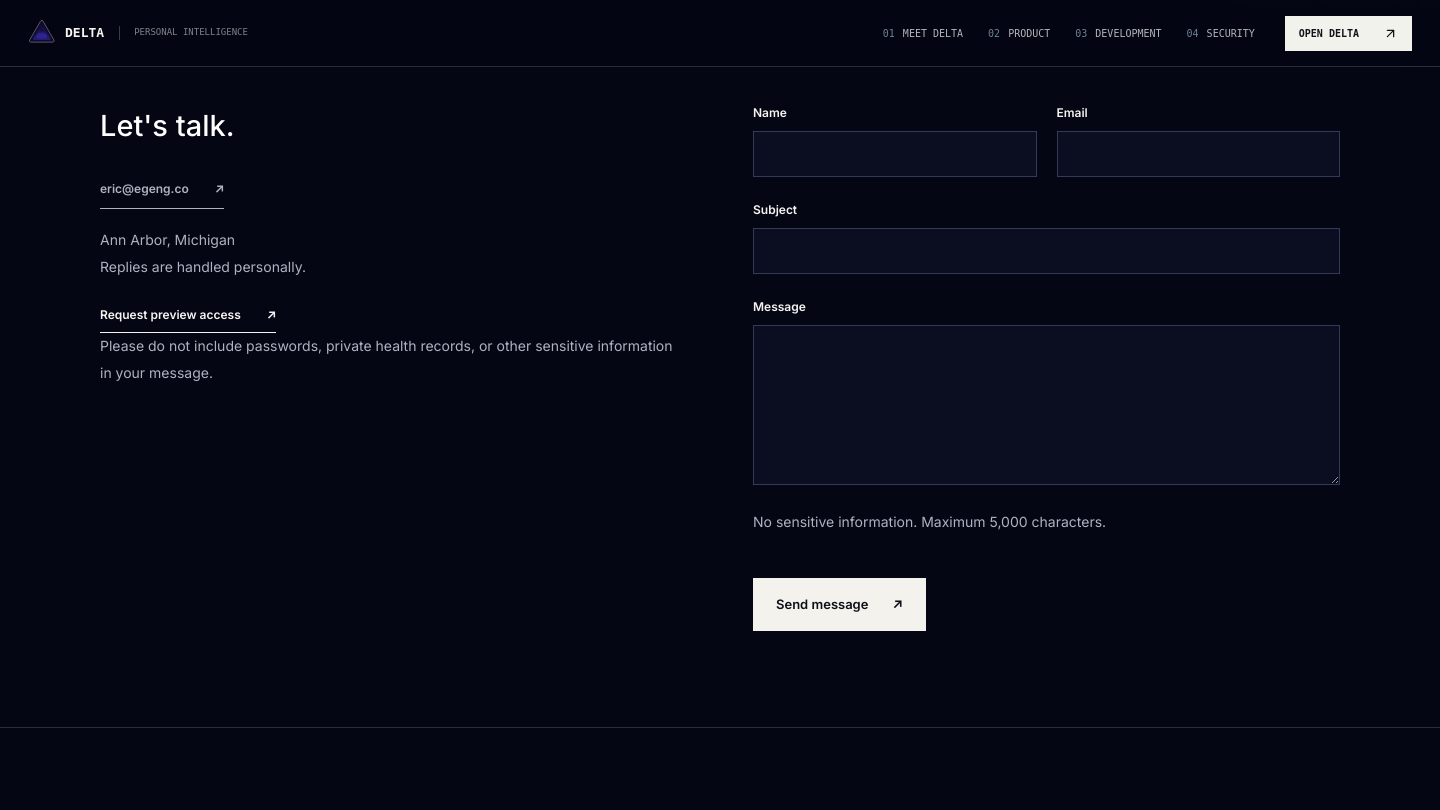
Test: also prevents simultaneous contact submissions
(page scrolled)
Type "A synthetic test message." into the text box labelled "Message" at (1046, 405), box [753, 325, 1340, 485]
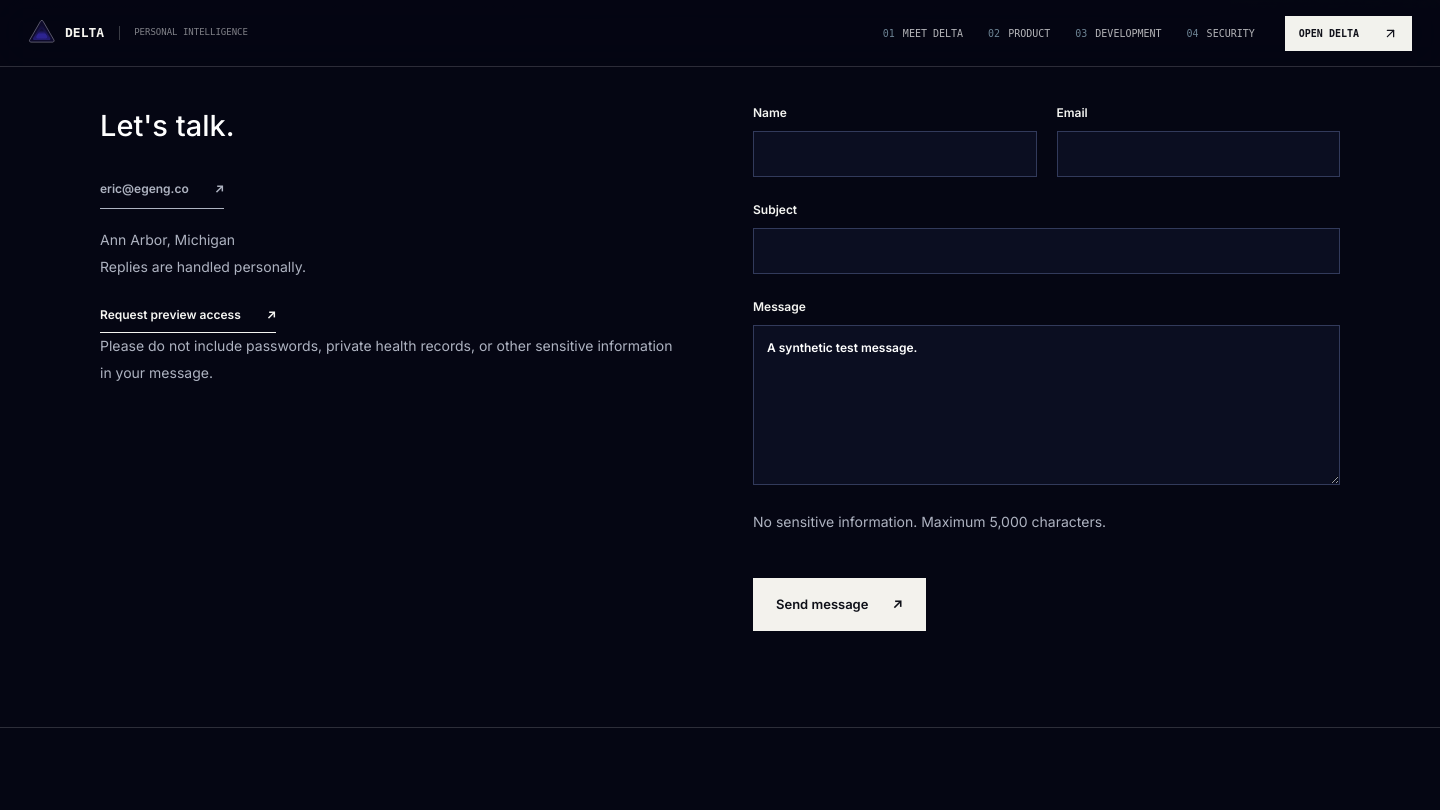
Submit the form, box [753, 104, 1340, 631]
Submit the form, box [753, 104, 1340, 631]
(page scrolled)
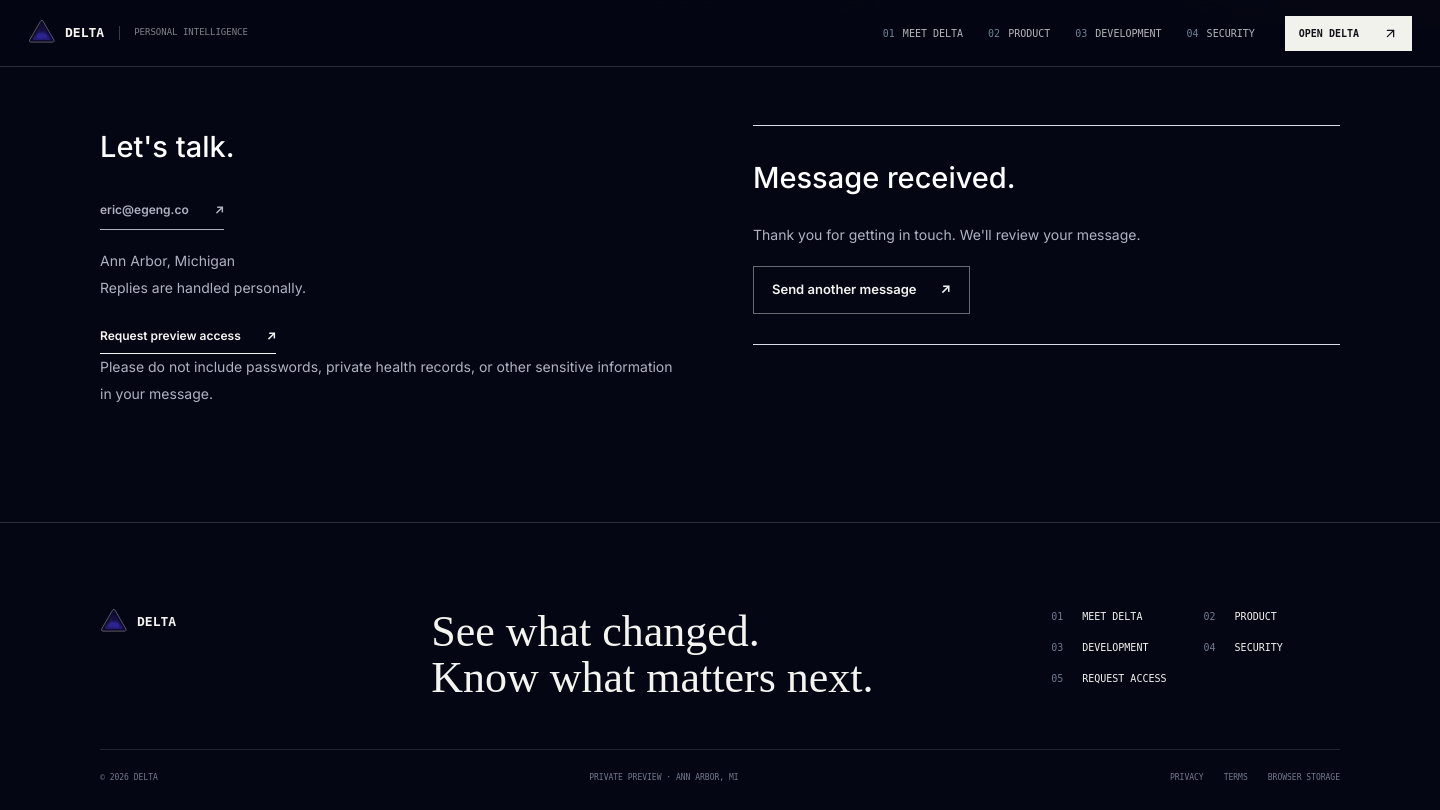
Check: the message shows "Message received", box [753, 160, 1016, 195]
